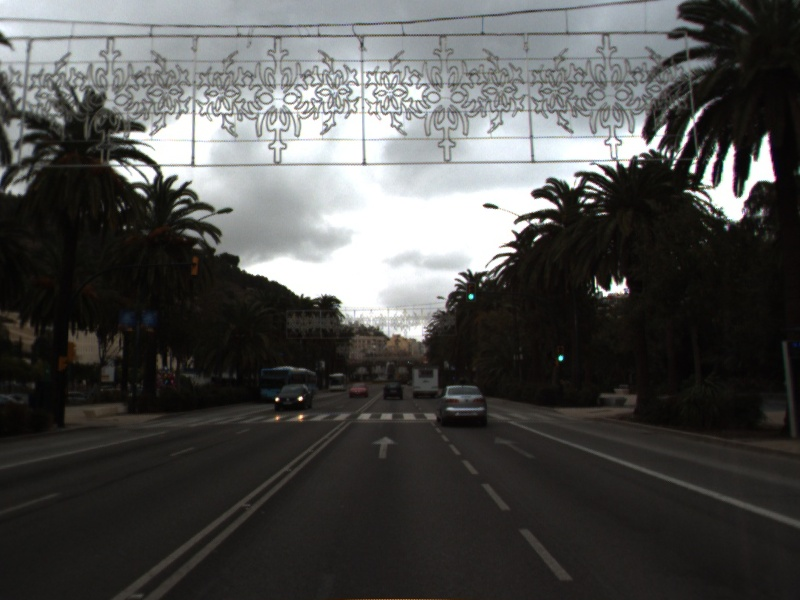STRAIGHT: (491, 434, 538, 461), (370, 434, 401, 461)
